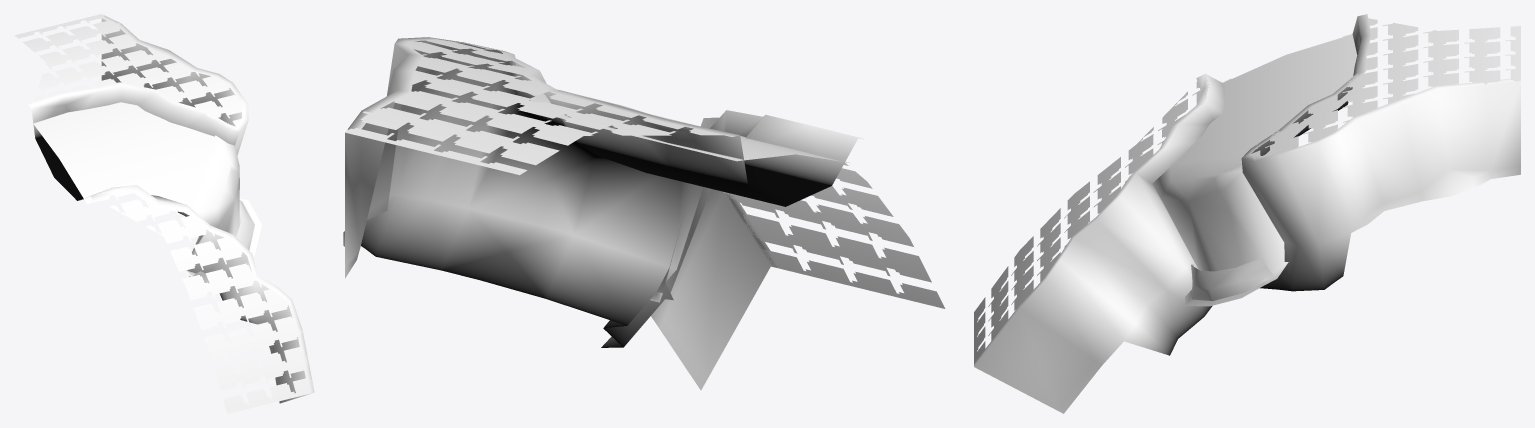
File: grd_Ew_R_0.dae
3 renders of one model, left to right at view 1: azimuth 30°, elevation 25°; view 2: azimuth 150°, elevation 25°; view 3: azimuth 270°, elevation 25°, orthographic. The views are drawn at different scales.
Parts seen in each view (by area): view 1: grass_3_0, cliff_2_0, river_4_0, fall_0_0, river_edge_5_0, kemuri_mae_1_0; view 2: cliff_2_0, grass_3_0, river_4_0, river_edge_5_0; view 3: cliff_2_0, grass_3_0, fall_0_0, river_4_0, kemuri_mae_1_0, river_edge_5_0.
Boxes of the visible parts, x1=… form: grass_3_0: x1=15, y1=14, x2=313, y2=413; cliff_2_0: x1=28, y1=15, x2=314, y2=403; river_4_0: x1=30, y1=103, x2=214, y2=215; fall_0_0: x1=184, y1=135, x2=261, y2=284; river_edge_5_0: x1=30, y1=102, x2=214, y2=212; kemuri_mae_1_0: x1=193, y1=200, x2=254, y2=282; cliff_2_0: x1=343, y1=37, x2=863, y2=390; grass_3_0: x1=345, y1=39, x2=945, y2=308; river_4_0: x1=528, y1=93, x2=850, y2=163; river_edge_5_0: x1=530, y1=94, x2=838, y2=161; cliff_2_0: x1=974, y1=14, x2=1520, y2=413; grass_3_0: x1=974, y1=18, x2=1520, y2=362; fall_0_0: x1=1152, y1=155, x2=1288, y2=306; river_4_0: x1=1175, y1=35, x2=1356, y2=171; kemuri_mae_1_0: x1=1191, y1=257, x2=1274, y2=300; river_edge_5_0: x1=1180, y1=34, x2=1357, y2=157.
Bounding box in the file's own units: 272 × 340 × 507.
Materials: 6 (1 with a texture image).
